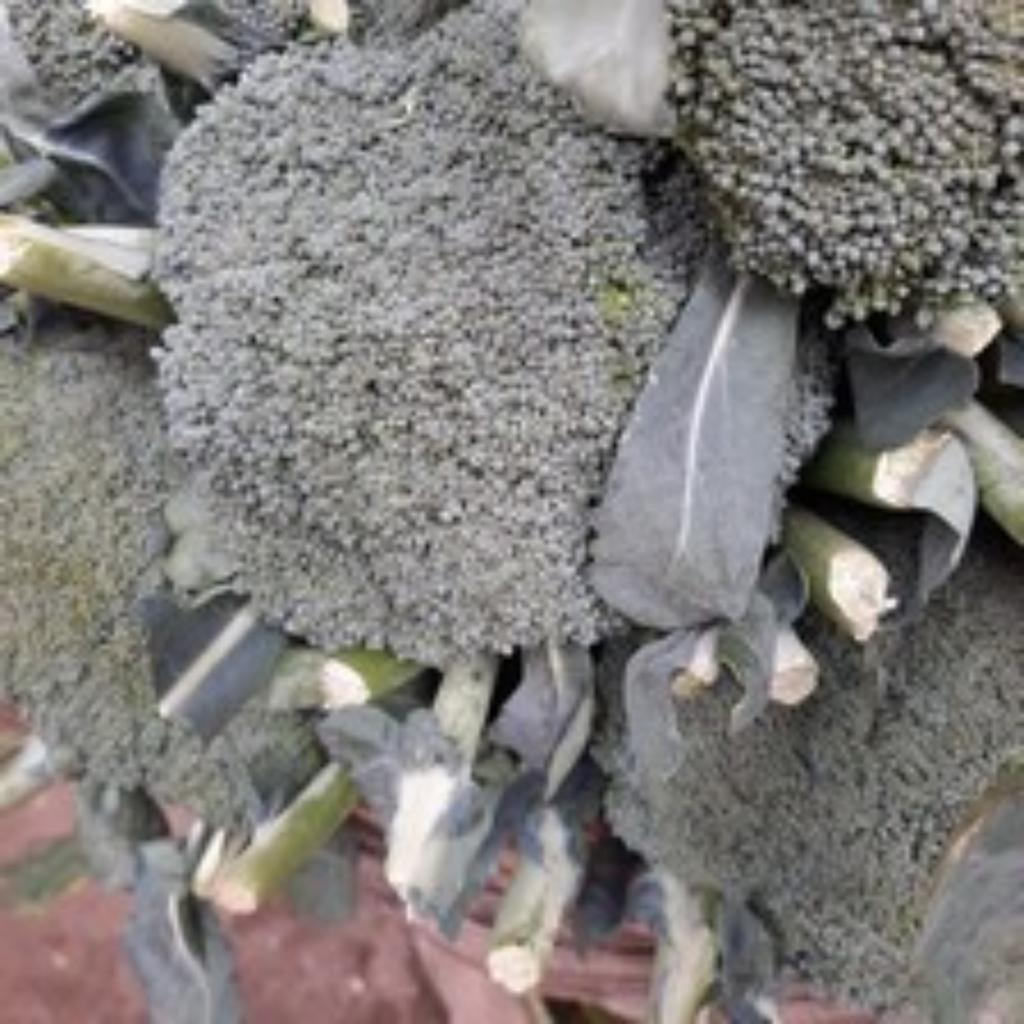Broccoli: (158, 0, 706, 663), (158, 0, 706, 663), (598, 516, 1024, 1011), (598, 516, 1024, 1009), (0, 306, 260, 824), (0, 308, 258, 824)
